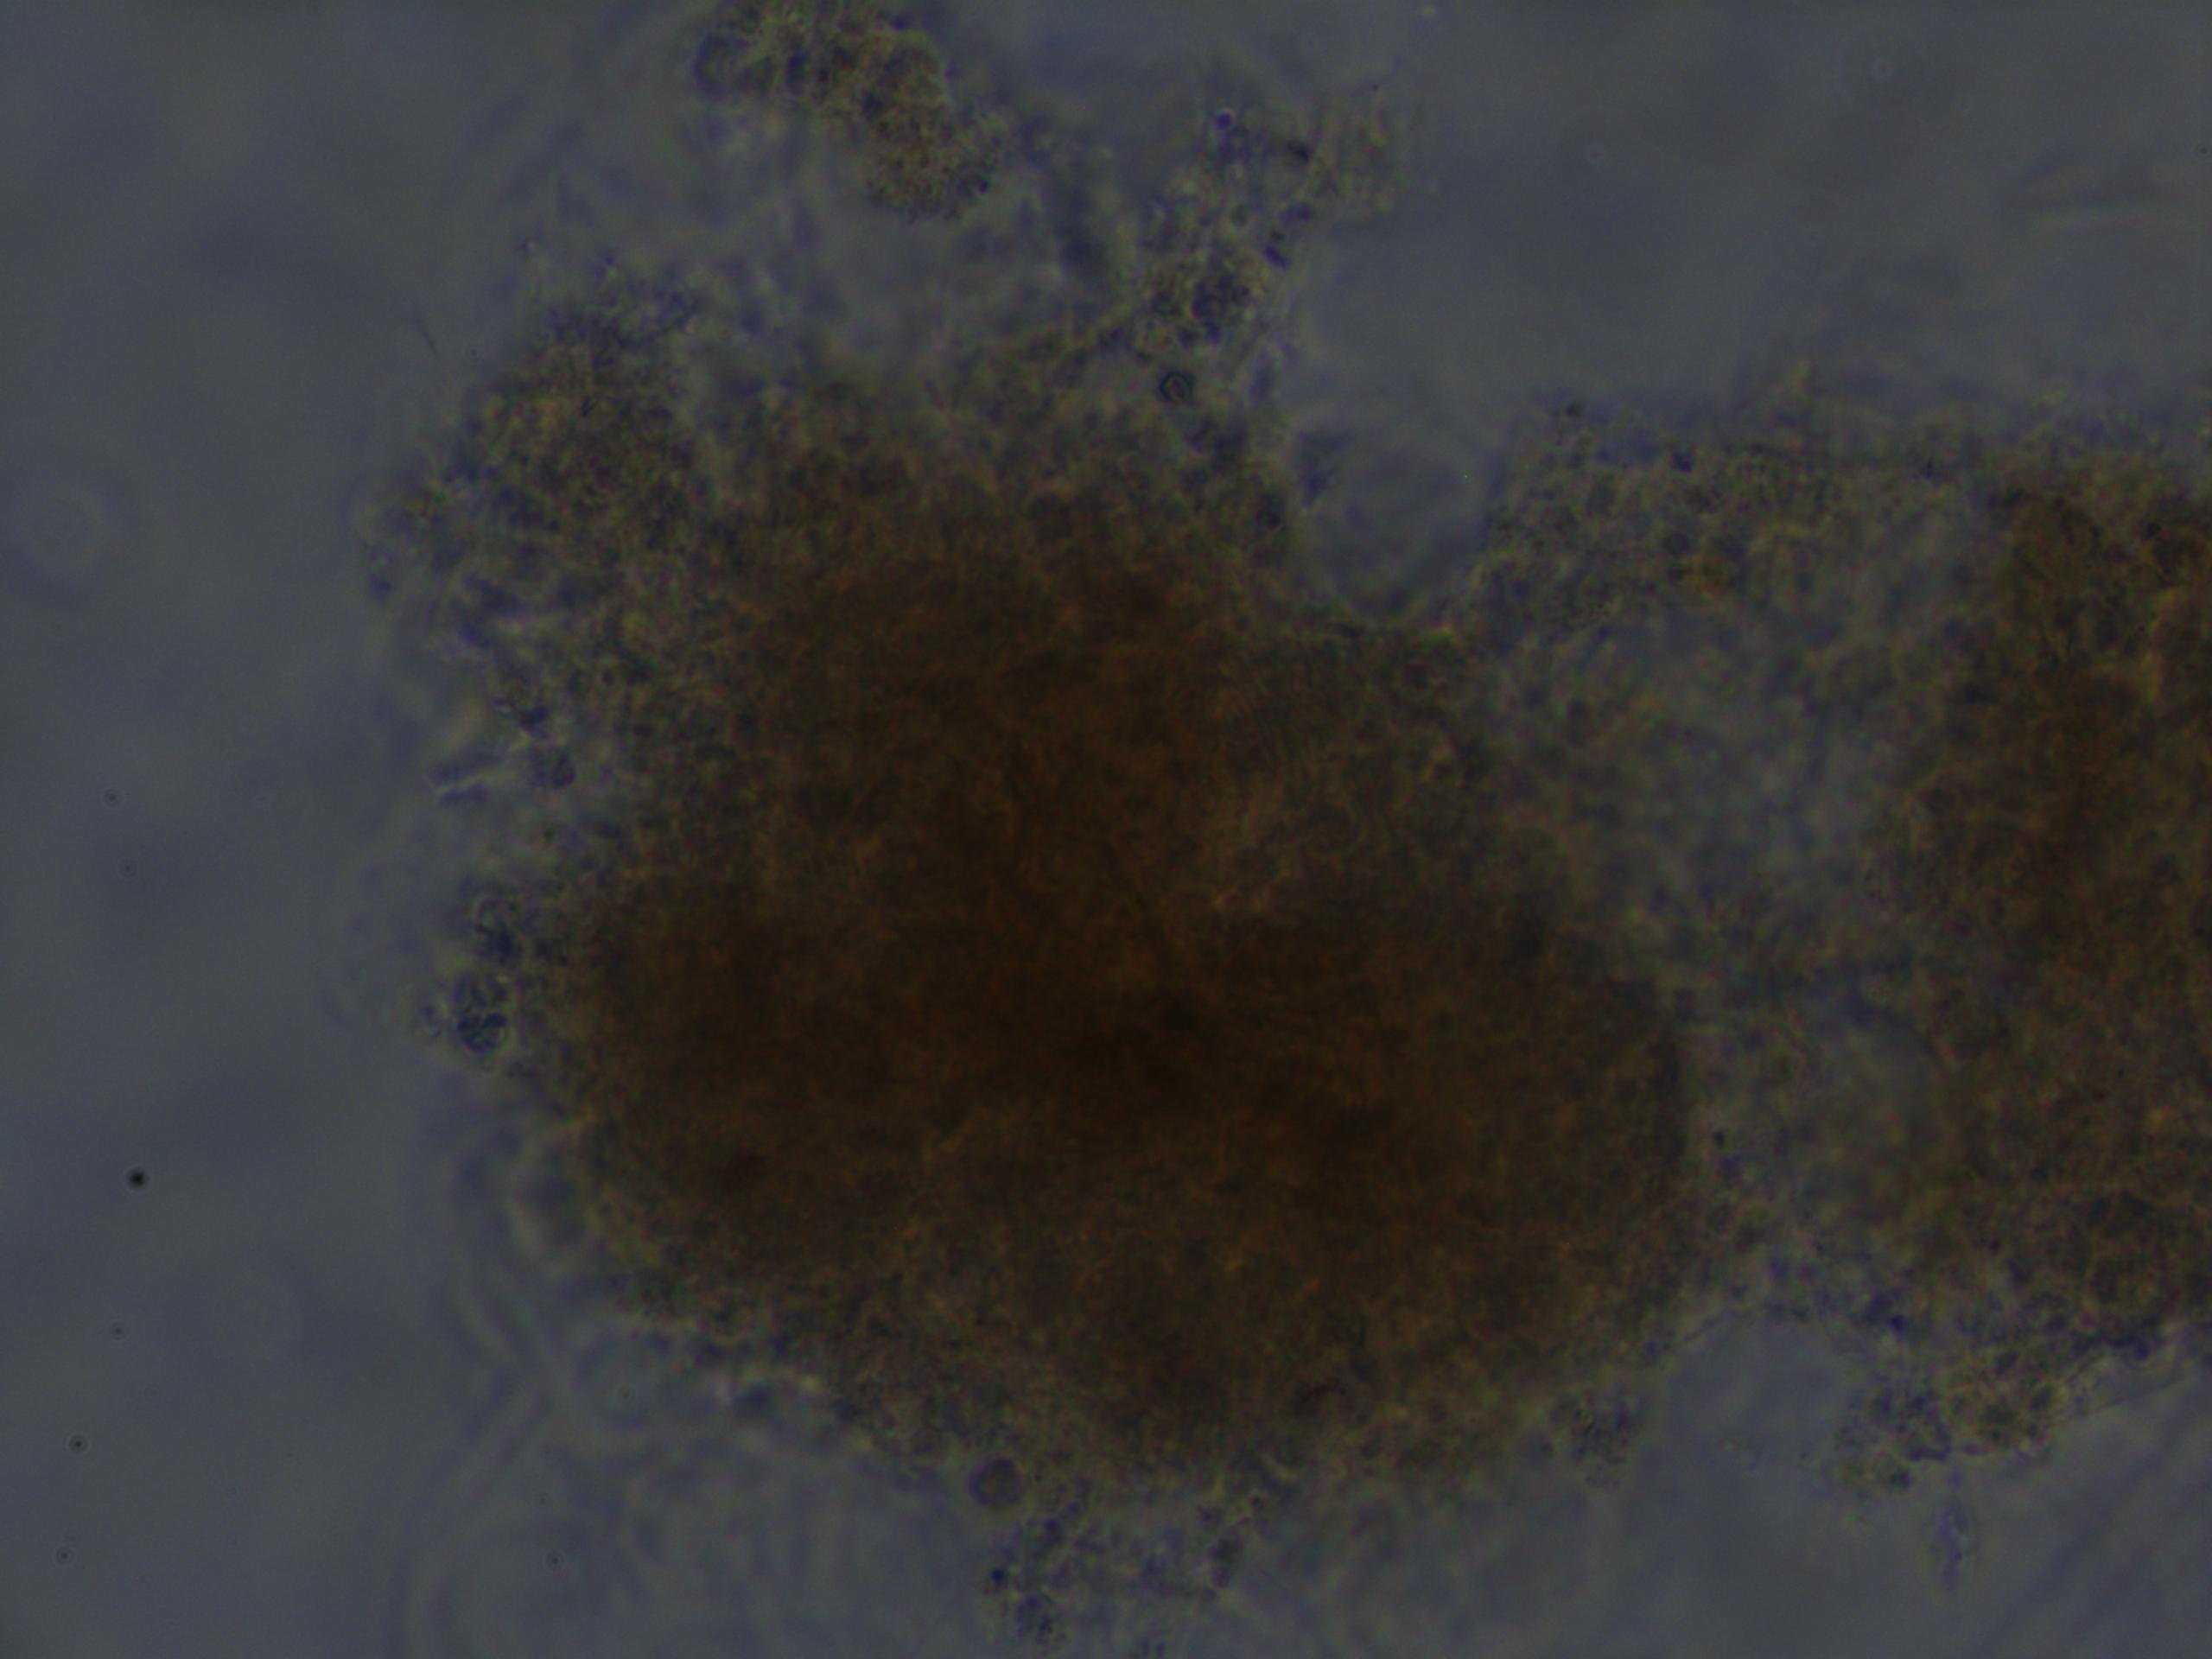spherical_floc: (435, 312, 1731, 1539)
